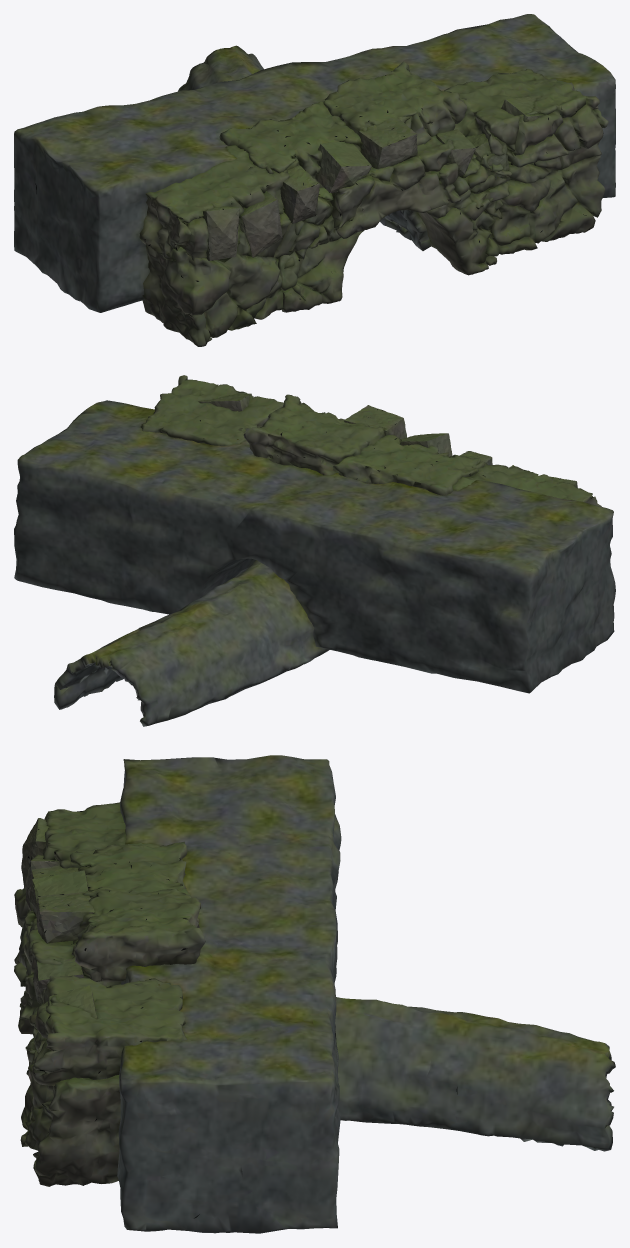
The model's file is winden-cave-mobile.glb.
3 views of the same model, one above another, from view 1: azimuth 30°, elevation 25°; view 2: azimuth 150°, elevation 25°; view 3: azimuth 270°, elevation 25° (orthographic). The views are drawn at different scales.
Visible parts, largest first — view 1: BlenderCave; view 2: BlenderCave; view 3: BlenderCave.
Boxes of the visible parts, left/top/right/bottom form: BlenderCave: left=14, top=14, right=615, bottom=346; BlenderCave: left=14, top=375, right=615, bottom=726; BlenderCave: left=14, top=755, right=615, bottom=1233.
Bounding box in the file's own units: 24.66 × 7.69 × 20.11.
Materials: 1 (1 with a texture image).
